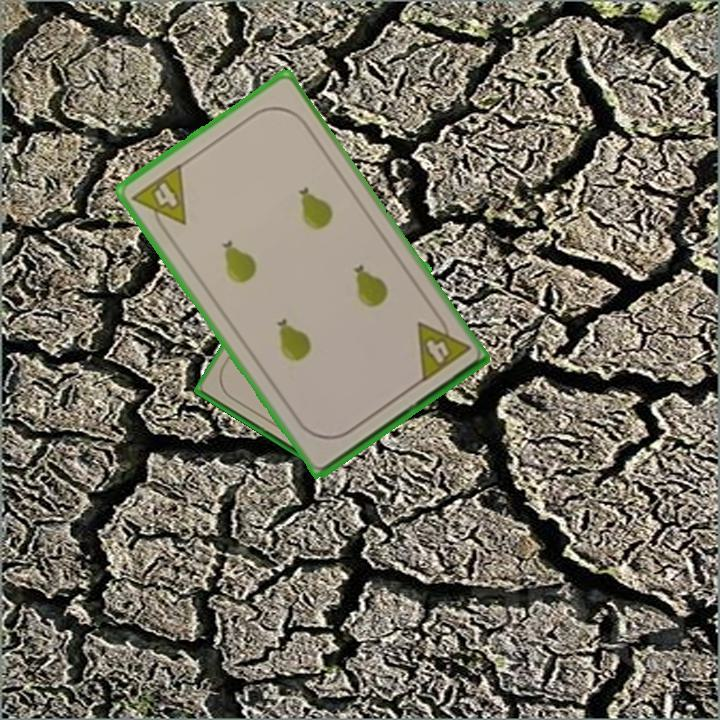4p: (128, 160, 189, 239), (412, 308, 473, 386)
